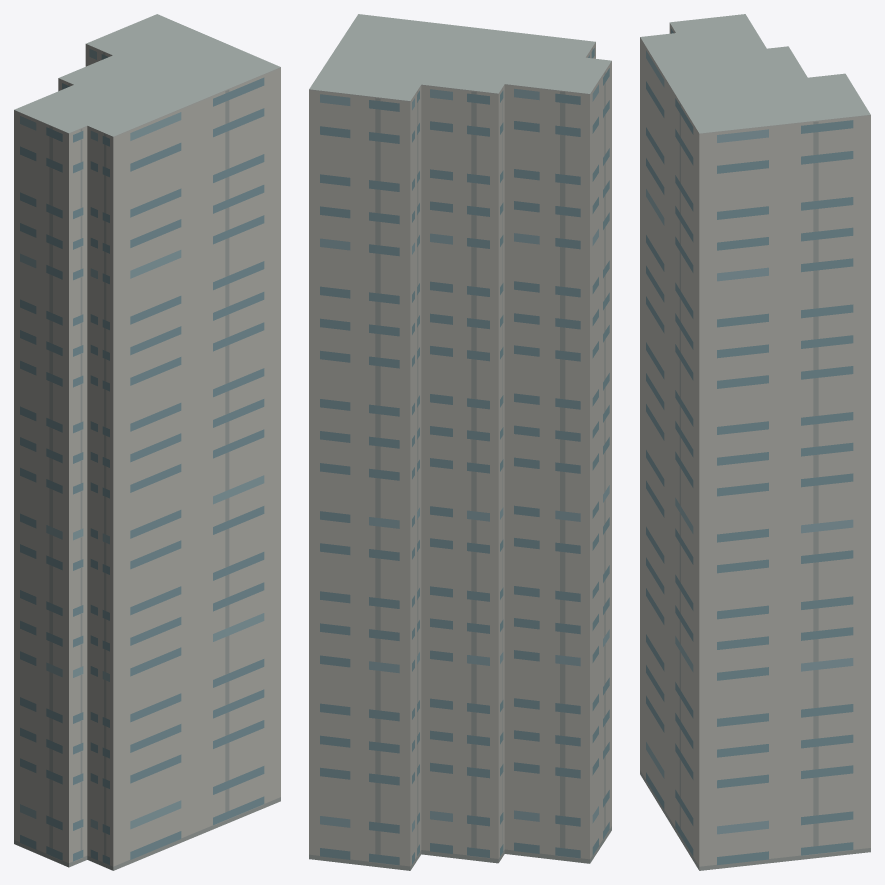
File: residential-865bfc2b-0710-4a65-b1f3-fa384a272880.glb
3 renders of one model, left to right at view 1: azimuth 30°, elevation 25°; view 2: azimuth 150°, elevation 25°; view 3: azimuth 270°, elevation 25°, orthographic. The views are drawn at different scales.
Visible parts, largest first — view 1: residential-865bfc2b-0710-4a65-b1f3-fa384a272880.tmp; view 2: residential-865bfc2b-0710-4a65-b1f3-fa384a272880.tmp; view 3: residential-865bfc2b-0710-4a65-b1f3-fa384a272880.tmp.
Boxes of the visible parts, <box> form: residential-865bfc2b-0710-4a65-b1f3-fa384a272880.tmp: <box>14,14,280,870</box>; residential-865bfc2b-0710-4a65-b1f3-fa384a272880.tmp: <box>309,14,611,870</box>; residential-865bfc2b-0710-4a65-b1f3-fa384a272880.tmp: <box>640,14,870,870</box>.
Size of the model in its own units: 64 by 184 by 52.19.
